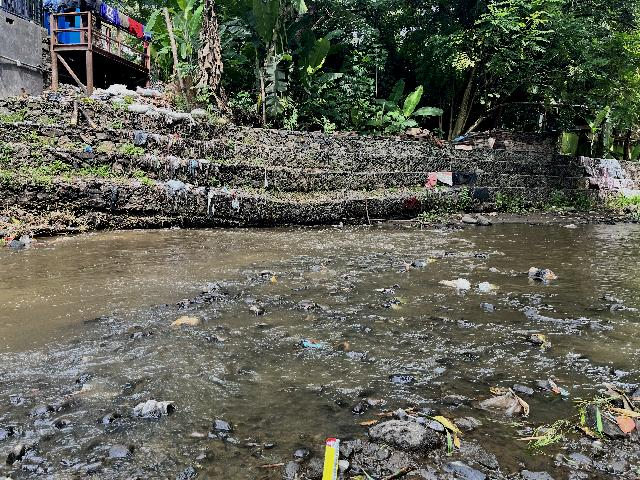Sampah Anorganik: (477, 383, 535, 421), (320, 436, 344, 480), (541, 374, 574, 402), (528, 263, 562, 287), (298, 337, 333, 356), (440, 277, 474, 292), (477, 281, 496, 294), (423, 256, 440, 264)
